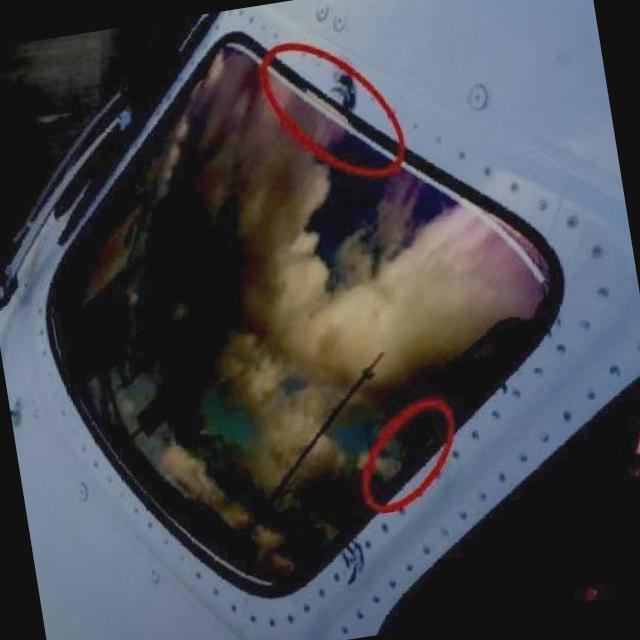crack: (338, 535, 368, 587)
